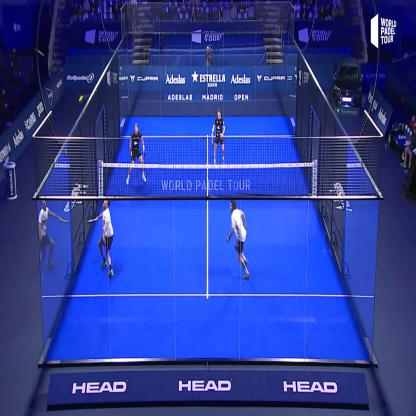ball: (75, 94, 86, 107)
